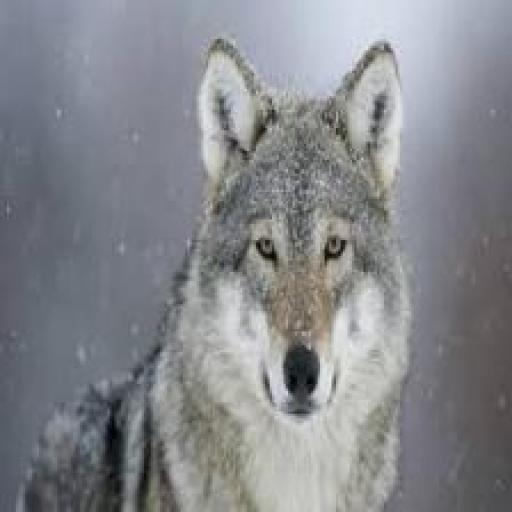wolf: (14, 23, 422, 511)
